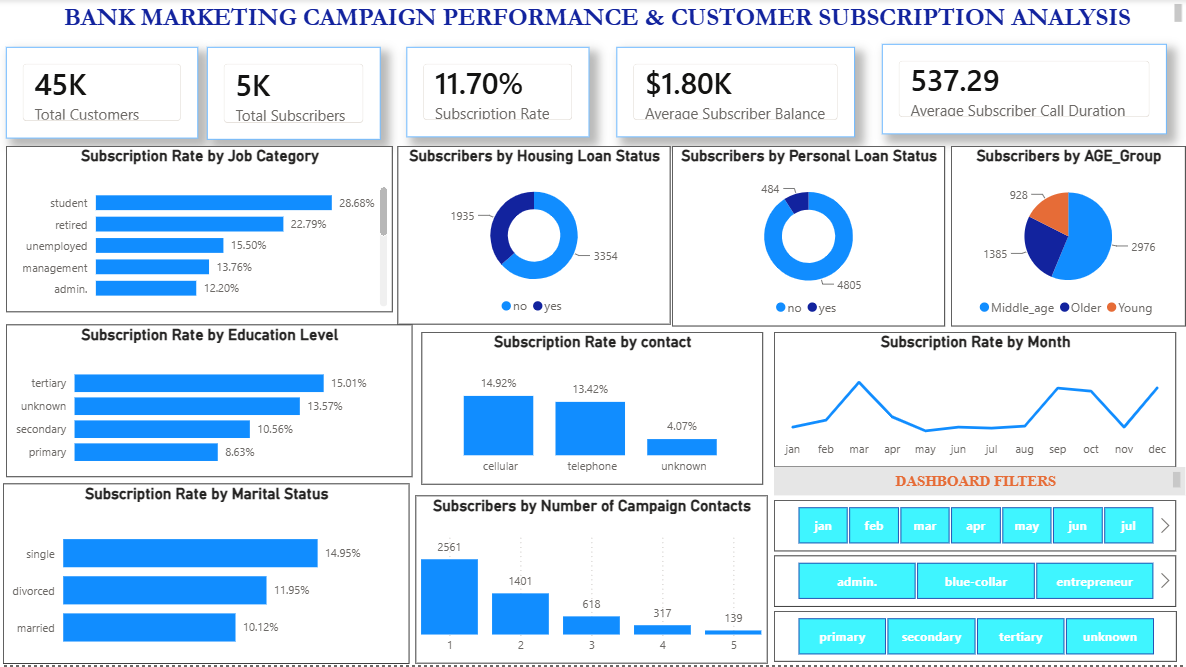

The dashboard page shown, as its layout file describes it:
{"tool":"powerbi","page":{"name":"Dashboard","canvas":[1280,720],"ordinal":0},"visuals":[{"type":"cardVisual","fields":{"Data":["public bank_marketing.Total Customers"]},"box":[6.5,51.8,207.3,98.8],"z":0},{"type":"cardVisual","fields":{"Data":["public bank_marketing.Total Subscribers"]},"box":[222.7,51,187.1,100.2],"z":1000},{"type":"cardVisual","fields":{"Data":["public bank_marketing.Subscription Rate"]},"box":[439,51,197.5,97.2],"z":2000},{"type":"cardVisual","fields":{"Data":["public bank_marketing.Average Subscriber Balance"]},"box":[665.8,51,257.5,97],"z":3000},{"type":"cardVisual","fields":{"Data":["public bank_marketing.Average Subscriber Call Duration"]},"box":[952.4,49.1,307.7,97],"z":4000},{"type":"textbox","box":[17.8,0,1263,34],"z":5000},{"type":"clusteredBarChart","title":"Subscription Rate by Job Category ","fields":{"Y":["public bank_marketing.Subscription Rate"],"Category":["public bank_marketing.job"]},"box":[5.7,158.7,417.6,179.5],"z":6000},{"type":"clusteredBarChart","title":"Subscription Rate by Education Level","fields":{"Y":["public bank_marketing.Subscription Rate"],"Category":["public bank_marketing.education"]},"box":[5.7,351.5,438.4,164.4],"z":7000},{"type":"barChart","title":" Subscription Rate by Marital Status","fields":{"Y":["public bank_marketing.Subscription Rate"],"Category":["public bank_marketing.marital"]},"box":[3.8,523.5,438.4,194.6],"z":8000},{"type":"donutChart","title":"Subscribers by Housing Loan Status","fields":{"Category":["public bank_marketing.housing"],"Y":["public bank_marketing.Total Subscribers"]},"box":[429,158.7,294.8,192.8],"z":9000},{"type":"donutChart","title":"Subscribers by Personal Loan Status","fields":{"Y":["public bank_marketing.Total Subscribers"],"Category":["public bank_marketing.loan"]},"box":[725.7,158.7,294.8,194.6],"z":10000},{"type":"columnChart","fields":{"Category":["public bank_marketing.contact"],"Y":["public bank_marketing.Subscription Rate"]},"box":[455.4,359.1,368.5,164.4],"z":11000},{"type":"lineChart","fields":{"Y":["public bank_marketing.Subscription Rate"],"Category":["Months.Month"]},"box":[835.5,359.5,434,145.7],"z":12000},{"type":"pieChart","title":"Subscribers by AGE_Group","fields":{"Y":["public bank_marketing.Total Subscribers"],"Category":["public bank_marketing.Age_Group"]},"box":[1026.1,158.7,253.2,194.6],"z":13000},{"type":"columnChart","title":"Subscribers by Number of Campaign Contacts","fields":{"Category":["public bank_marketing.campaign"],"Y":["public bank_marketing.Total Subscribers"]},"box":[447.9,536.7,379.8,181.4],"z":14000},{"type":"slicer","fields":{"Values":["Months.Month"]},"box":[835.5,540.8,434,55.1],"z":15000},{"type":"slicer","fields":{"Values":["public bank_marketing.education"]},"box":[835.3,661.4,434.6,54.8],"z":16000},{"type":"slicer","fields":{"Values":["public bank_marketing.job"]},"box":[835.5,600.7,434,55.1],"z":17000},{"type":"textbox","box":[835.5,505.2,443.7,30.8],"z":18000}]}

Visuals, with their boxes in screenshot pixels (x1, y1, x2, y2), scaled from the page's 1280x720 canvas onto the 1186x667 screenshot:
cardVisual - public bank_marketing.Total Customers: [x1=6, y1=48, x2=198, y2=140]
cardVisual - public bank_marketing.Total Subscribers: [x1=206, y1=47, x2=380, y2=140]
cardVisual - public bank_marketing.Subscription Rate: [x1=407, y1=47, x2=590, y2=137]
cardVisual - public bank_marketing.Average Subscriber Balance: [x1=617, y1=47, x2=855, y2=137]
cardVisual - public bank_marketing.Average Subscriber Call Duration: [x1=882, y1=45, x2=1168, y2=135]
textbox: [x1=16, y1=0, x2=1185, y2=31]
"Subscription Rate by Job Category " clusteredBarChart: [x1=5, y1=147, x2=392, y2=313]
"Subscription Rate by Education Level" clusteredBarChart: [x1=5, y1=326, x2=411, y2=478]
" Subscription Rate by Marital Status" barChart: [x1=4, y1=485, x2=410, y2=665]
"Subscribers by Housing Loan Status" donutChart: [x1=397, y1=147, x2=671, y2=326]
"Subscribers by Personal Loan Status" donutChart: [x1=672, y1=147, x2=946, y2=327]
columnChart - public bank_marketing.contact x public bank_marketing.Subscription Rate: [x1=422, y1=333, x2=763, y2=485]
lineChart - public bank_marketing.Subscription Rate x Months.Month: [x1=774, y1=333, x2=1176, y2=468]
"Subscribers by AGE_Group" pieChart: [x1=951, y1=147, x2=1185, y2=327]
"Subscribers by Number of Campaign Contacts" columnChart: [x1=415, y1=497, x2=767, y2=665]
slicer - Months.Month: [x1=774, y1=501, x2=1176, y2=552]
slicer - public bank_marketing.education: [x1=774, y1=613, x2=1177, y2=663]
slicer - public bank_marketing.job: [x1=774, y1=556, x2=1176, y2=608]
textbox: [x1=774, y1=468, x2=1185, y2=497]
